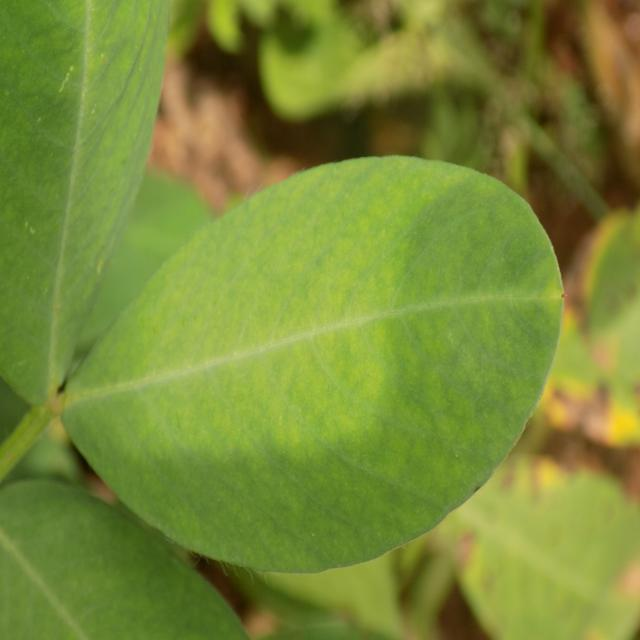Ground nut_healthy: (65, 151, 566, 572)
